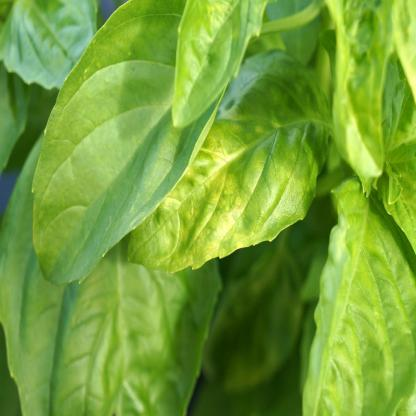tomato leaf: (31, 8, 208, 285), (126, 53, 332, 271)
